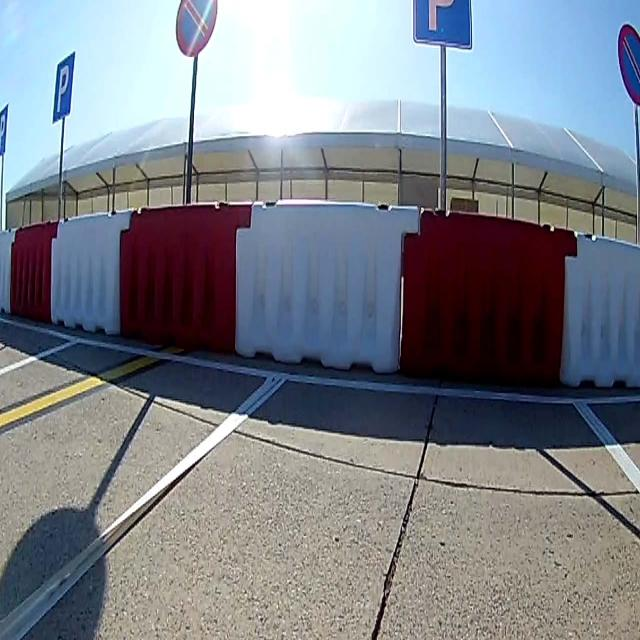park: (57, 58, 71, 114), (0, 101, 9, 158)
